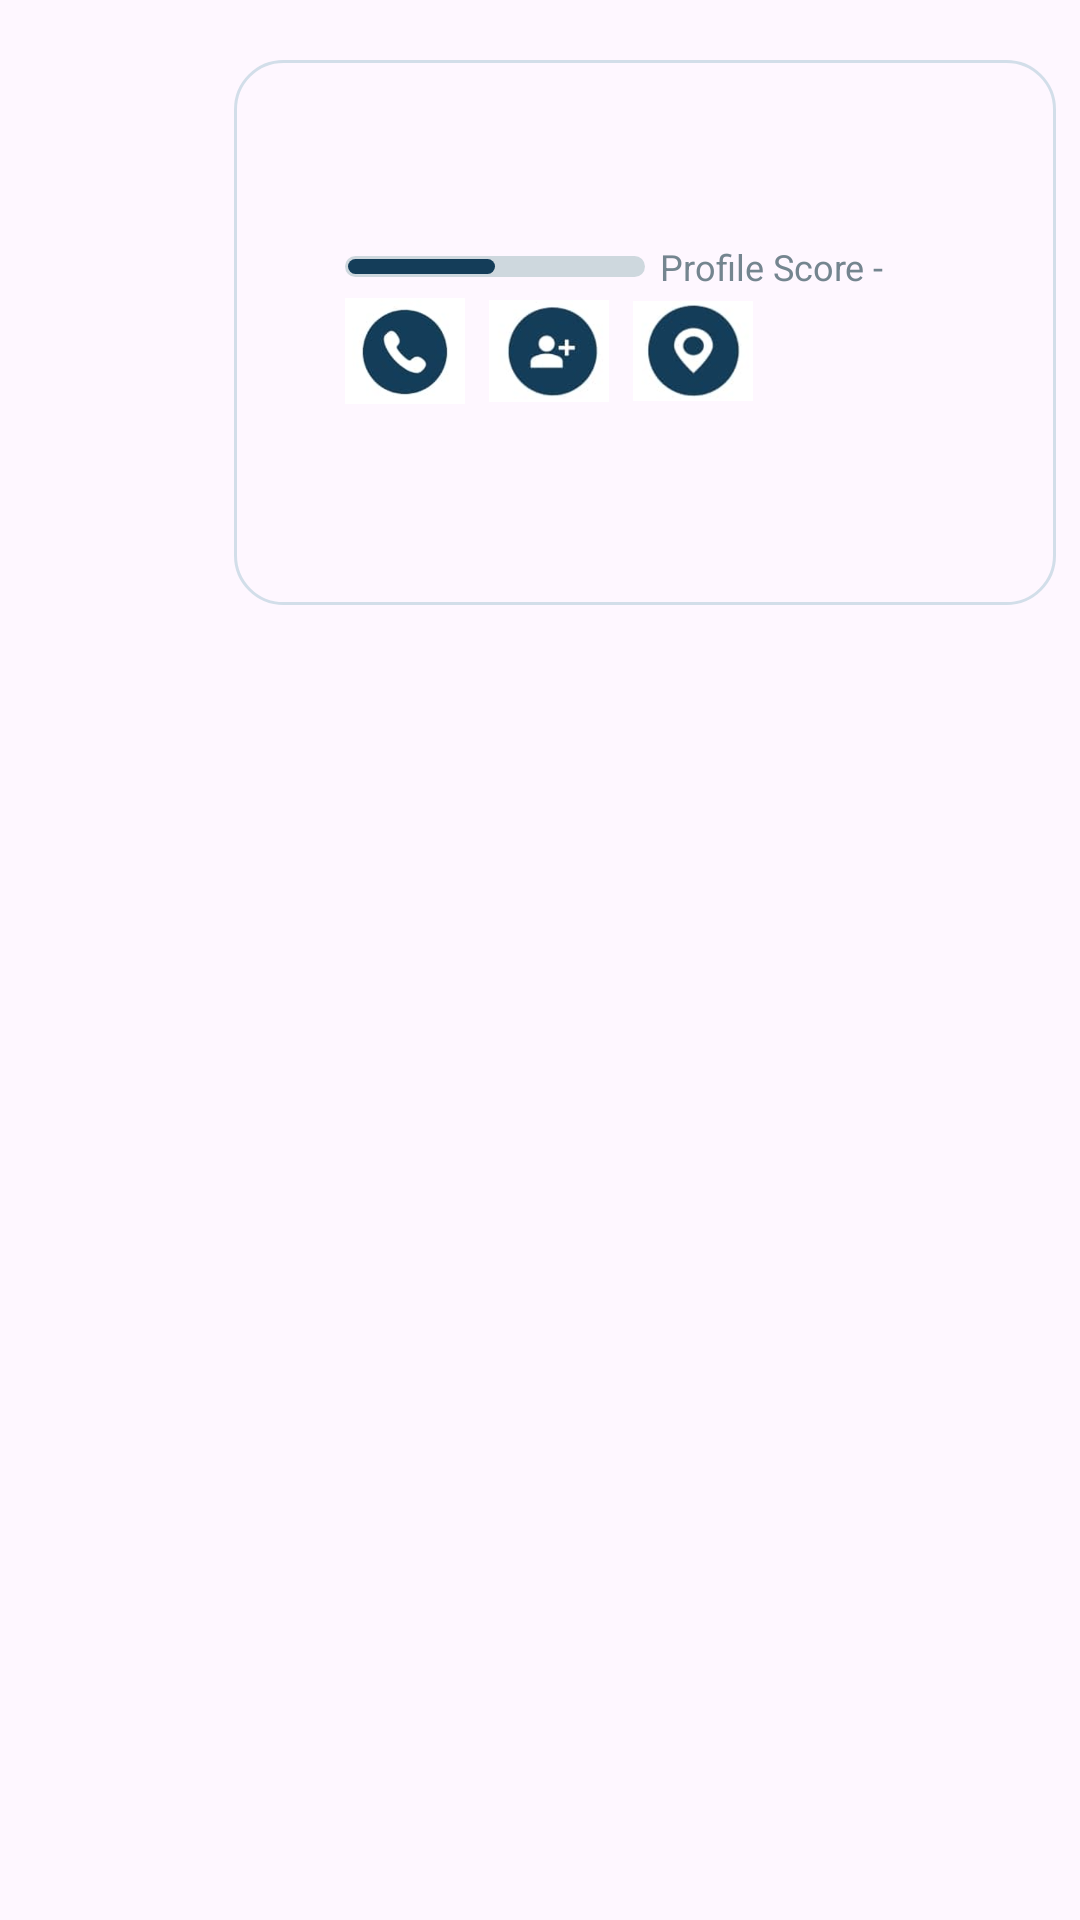

Screen size 1080*1920. Icon name, then its box in pixels as (x1, y1, x2, y2):
call: (362, 309, 448, 395)
contacts: (508, 307, 598, 396)
location: (648, 305, 740, 396)
